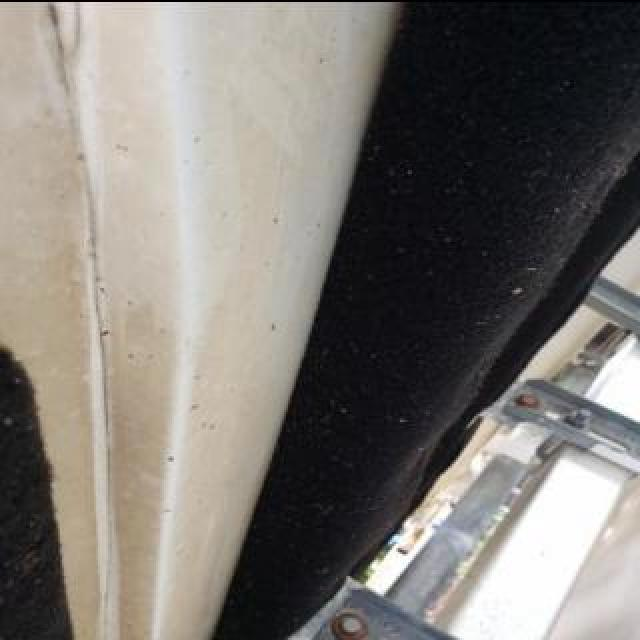crack: (40, 1, 116, 640)
